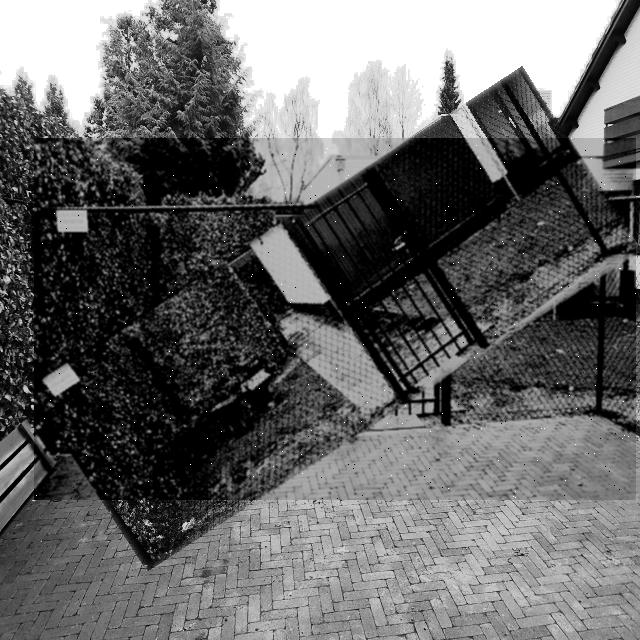fences: (34, 138, 636, 500)
